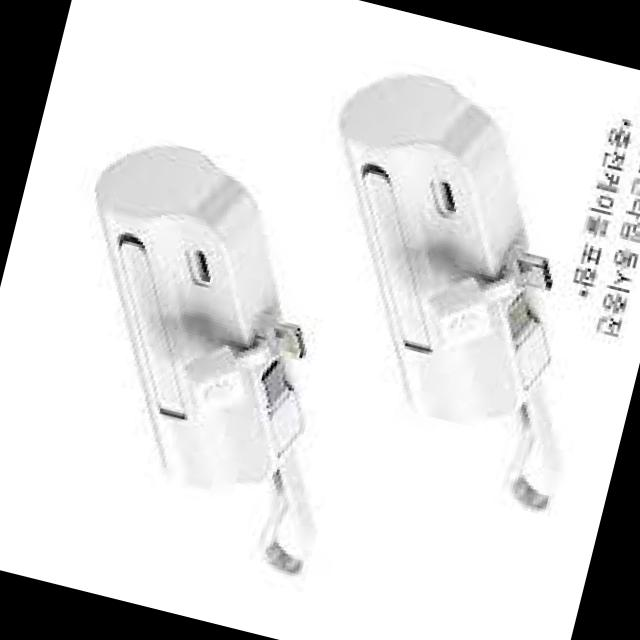portable-charger: (273, 65, 609, 447), (28, 135, 364, 510)
